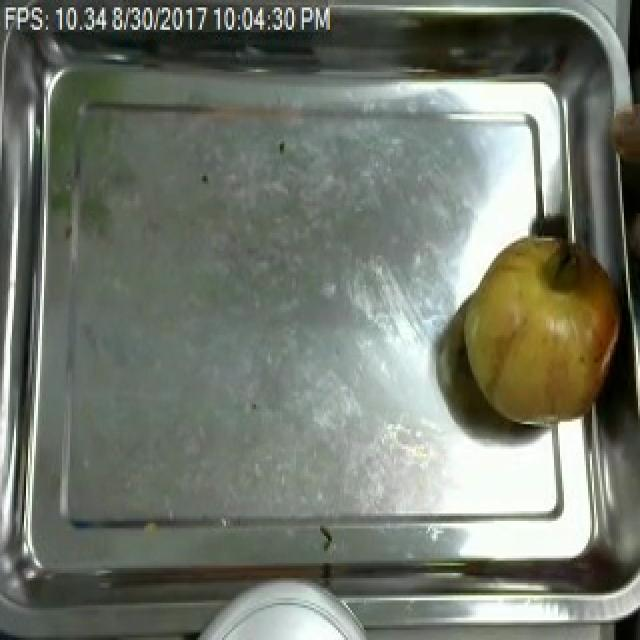fruit: (452, 218, 630, 442)
